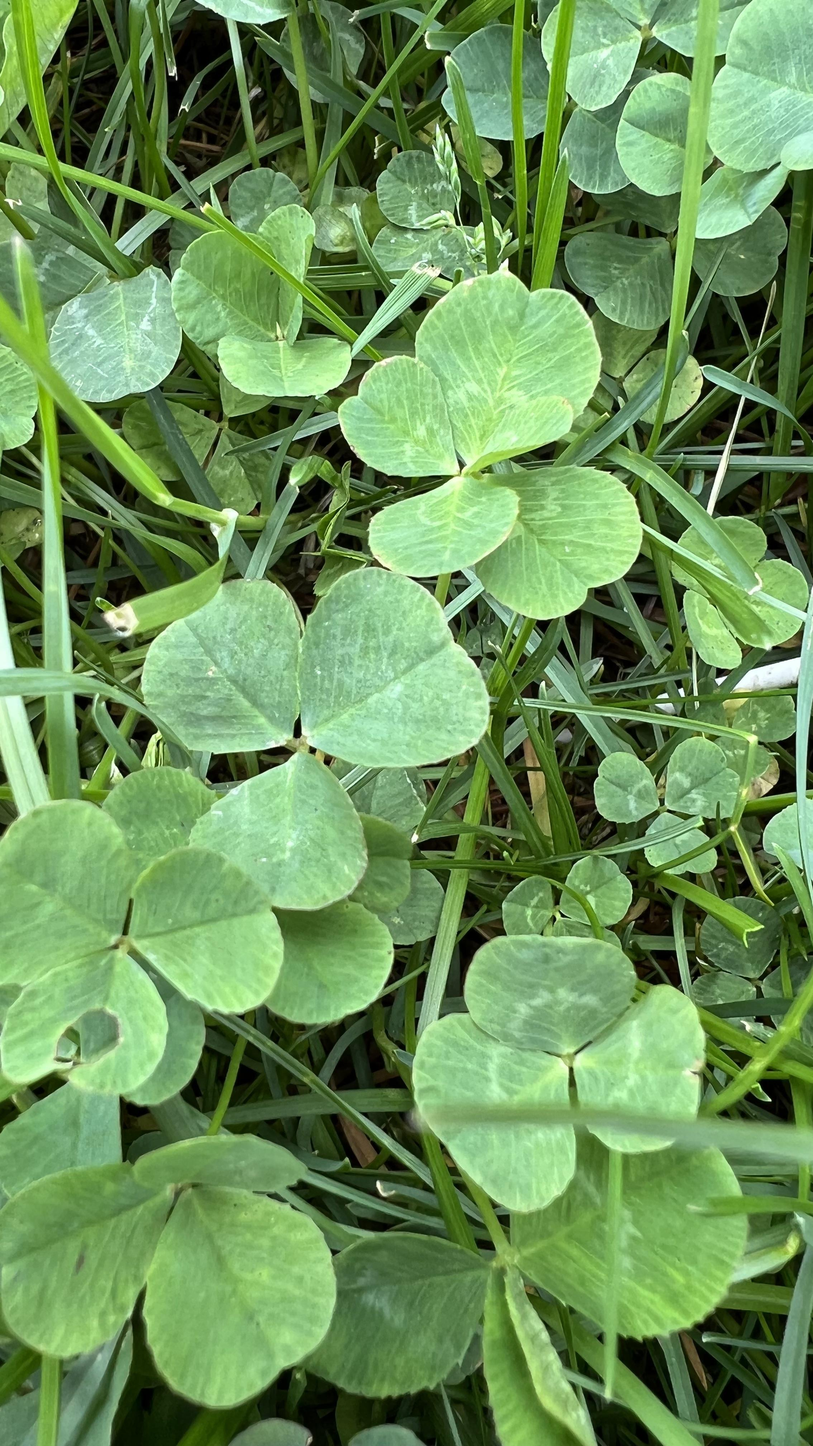5-Leaf-Clovers: (156, 302, 347, 826)
